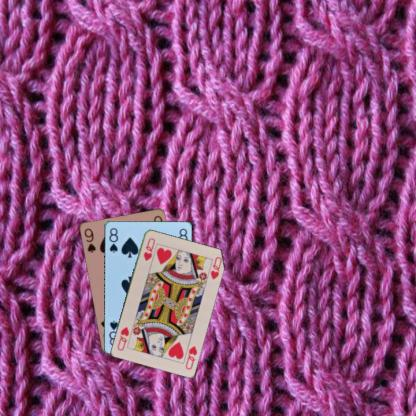8s: (106, 225, 119, 254)
9s: (82, 225, 97, 254)
Qh: (141, 235, 156, 262), (183, 343, 198, 370)
